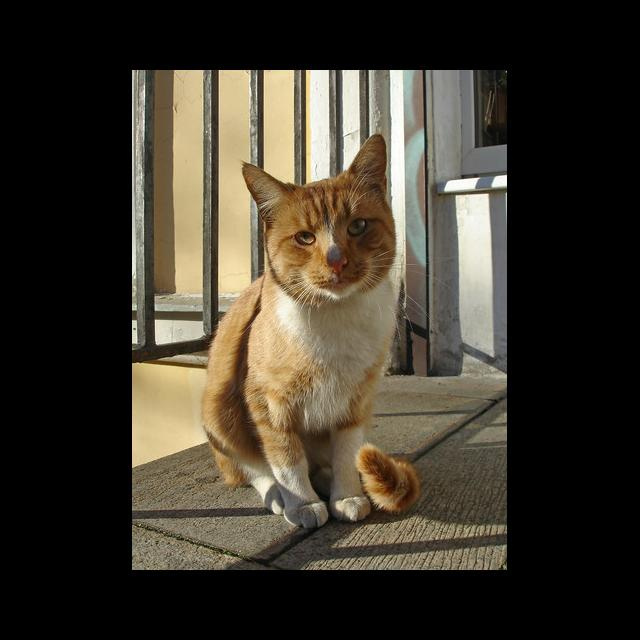animals: (199, 135, 423, 528)
